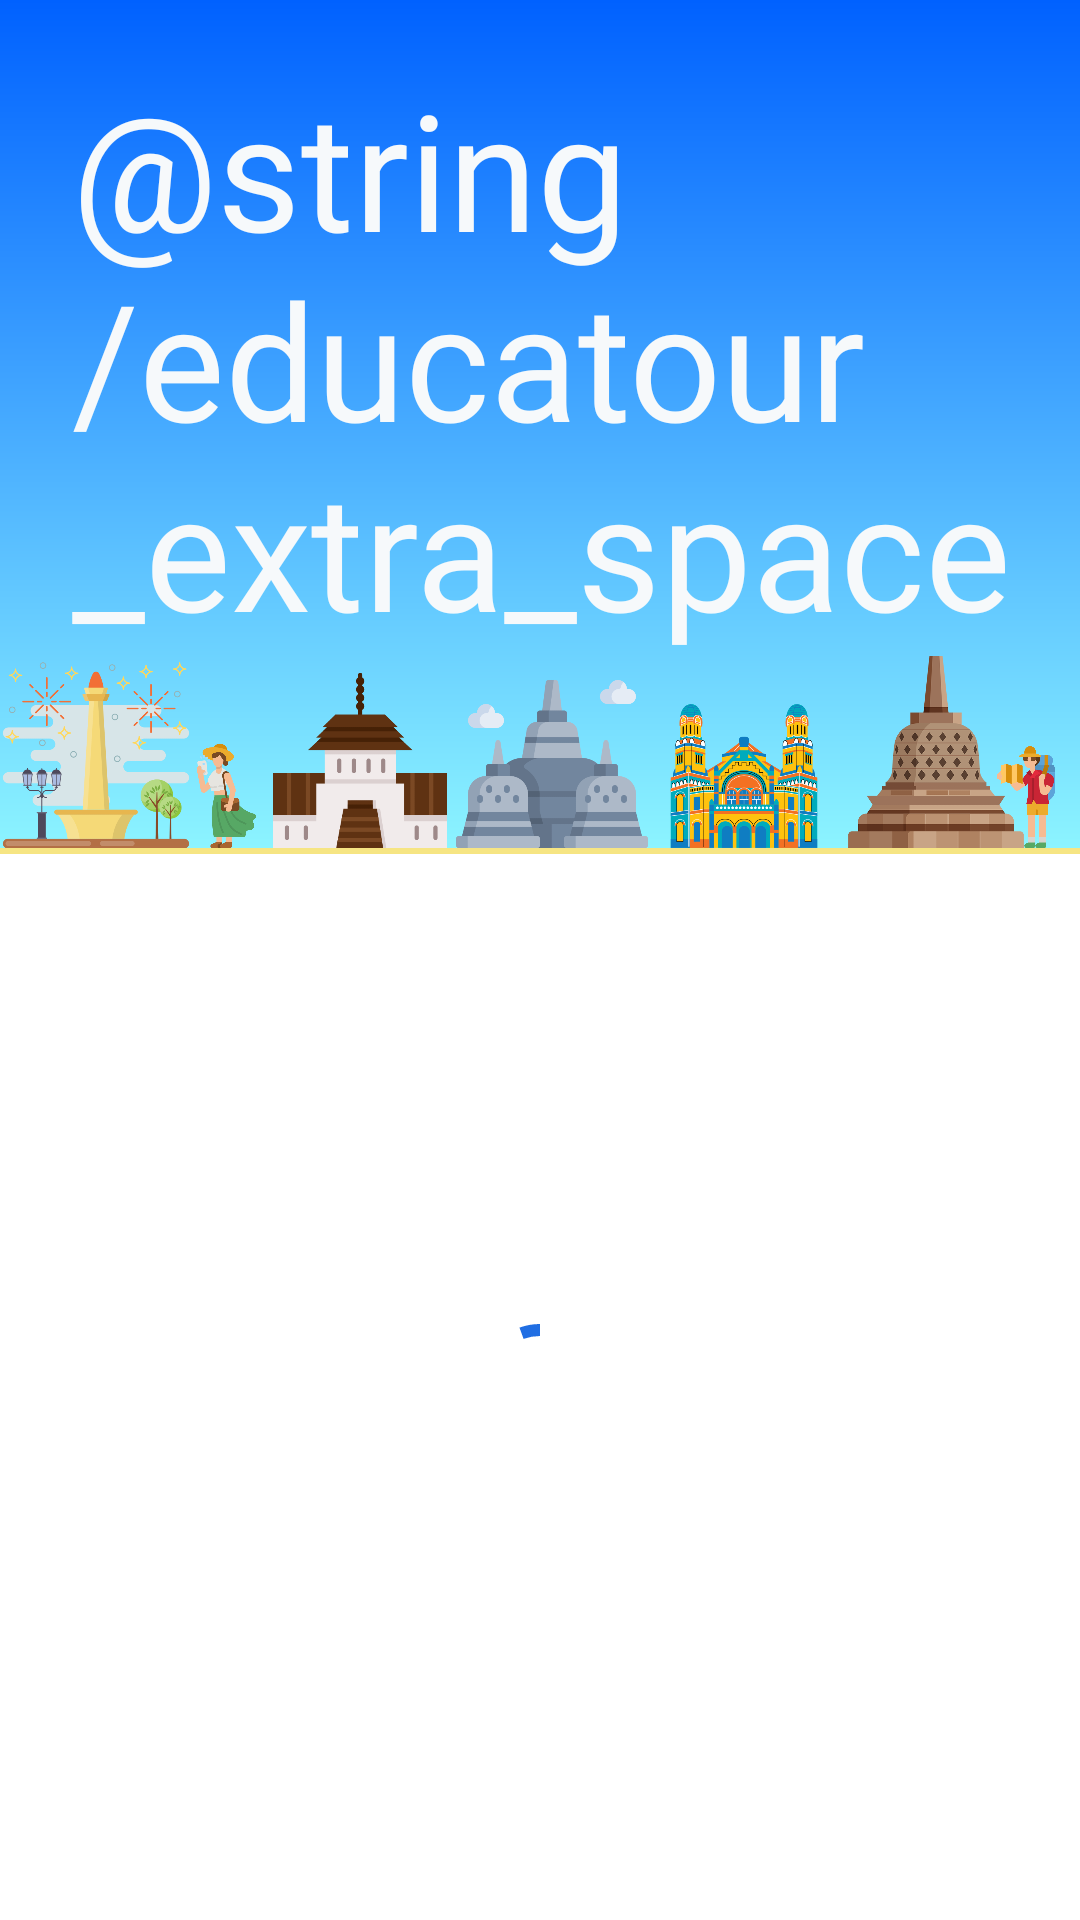

Where to tap for icons on this 1080x1920 app screen, as [x,y]:
gedung sate: [360,760]
lawang sewu: [744,776]
monas: [96,752]
